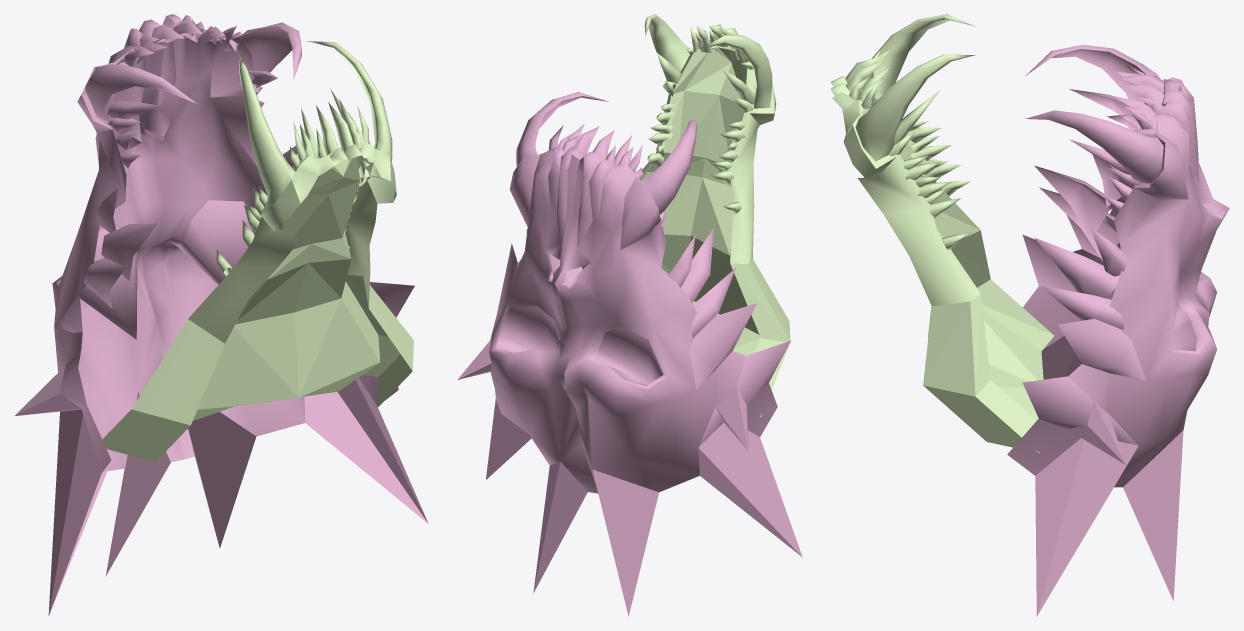
3 renders of one model, left to right at view 1: azimuth 30°, elevation 25°; view 2: azimuth 150°, elevation 25°; view 3: azimuth 270°, elevation 25°, orthographic. The views are drawn at different scales.
Visible parts, largest first — view 1: Object86; view 2: Object86; view 3: Object86.
Boxes of the visible parts, box(x1,y1,x2,y2) form: Object86: box(15, 14, 428, 615); Object86: box(457, 14, 802, 616); Object86: box(831, 14, 1229, 616).
Bounding box in the file's own units: 83585 × 126338 × 84282.
